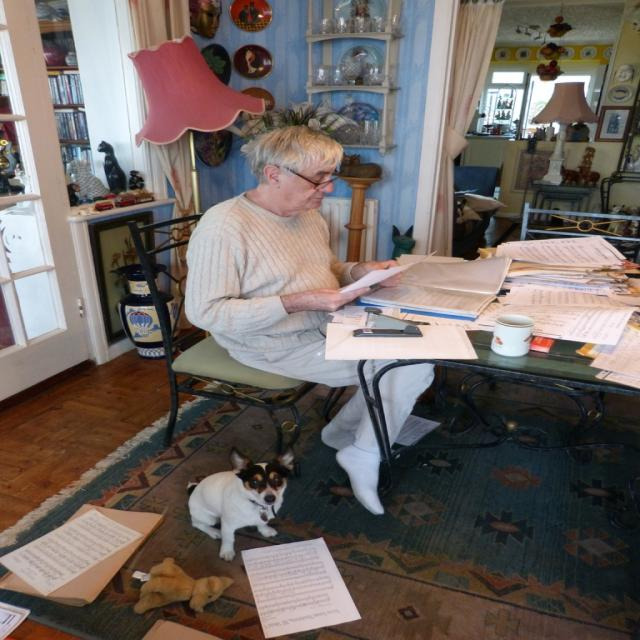chair: (126, 213, 334, 462)
desk: (356, 277, 640, 488)
person: (188, 124, 469, 512)
